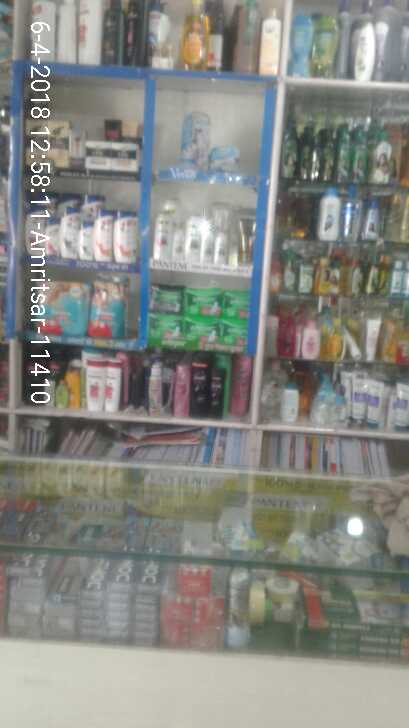venus: (182, 112, 209, 163), (212, 145, 239, 170)
